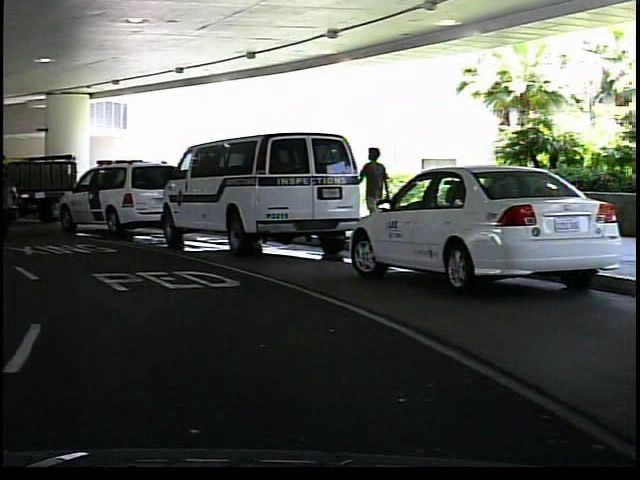person: (353, 138, 391, 245)
